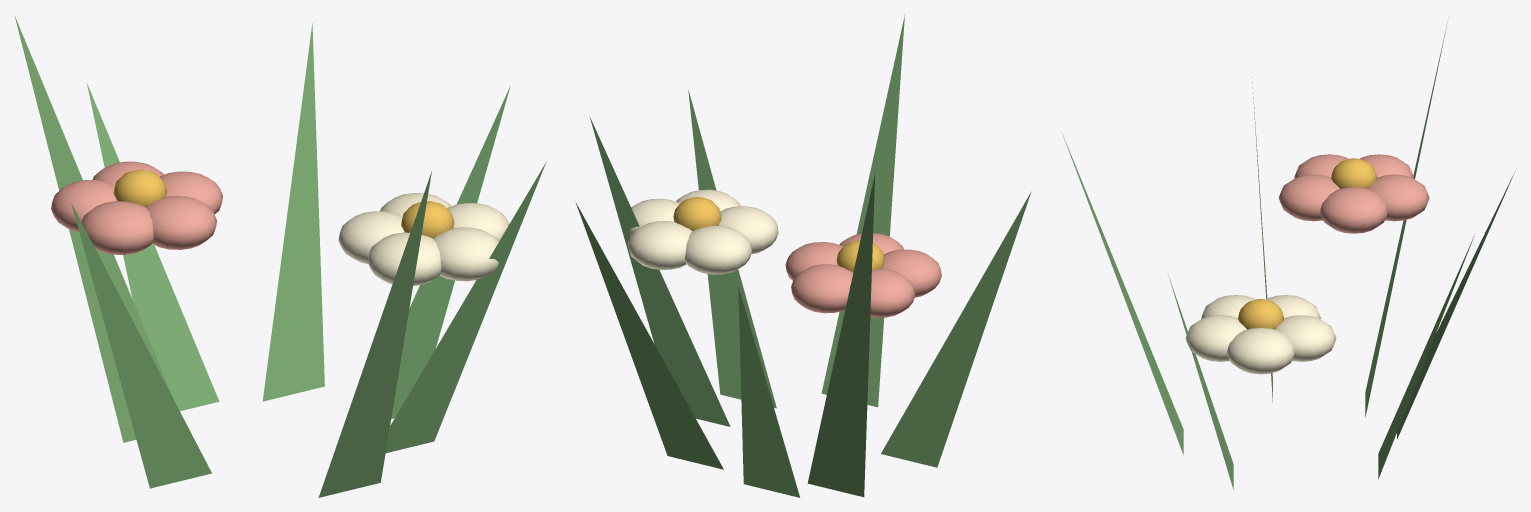
The model's file is grass.glb.
The picture shows the model from 3 angles, left to right: view 1: azimuth 30°, elevation 25°; view 2: azimuth 150°, elevation 25°; view 3: azimuth 270°, elevation 25°; orthographic projection. The views are drawn at different scales.
Visible parts, largest first — view 1: Blade.003, Blade.004, Blade.002, Blade.005, Blade.006, Blade.001, Blade, Petal.003, Petal.004, Petal.009, Petal.008, Petal.007 (+7 smaller); view 2: Blade.001, Blade.004, Blade.003, Blade, Blade.006, Blade.002, Blade.005, Petal.007, Petal.006, Petal.001, Petal.002, Petal.003 (+7 smaller); view 3: Petal, Petal.005, Petal.006, Petal.001, Petal.004, Petal.009, Blade.002, Blade.003, Blade.006, Blade.001, FlowerCenter, FlowerCenter.001 (+5 smaller).
Boxes of the visible parts, x1,y1,x2,y2 form: Blade.003: (262,23,324,401); Blade.004: (71,203,211,488); Blade.002: (318,171,431,497); Blade.005: (385,162,546,453); Blade.006: (86,82,219,411); Blade.001: (14,15,174,442); Blade: (391,86,510,418); Petal.003: (81,201,153,254); Petal.004: (146,196,216,249); Petal.009: (433,227,498,281); Petal.008: (367,232,441,285); Petal.007: (338,211,404,263); Blade.001: (807,173,875,497); Blade.004: (881,191,1031,467); Blade.003: (575,202,723,469); Blade: (589,116,730,426); Blade.006: (738,286,800,497); Blade.002: (821,15,904,407); Blade.005: (688,90,776,408); Petal.007: (685,225,752,274); Petal.006: (627,221,692,269); Petal.001: (791,264,853,313); Petal.002: (849,269,915,317); Petal.003: (882,249,941,297); Petal: (1320,187,1387,233); Petal.005: (1227,328,1294,374); Petal.006: (1275,315,1336,361); Petal.001: (1368,174,1429,221); Petal.004: (1278,174,1339,221); Petal.009: (1185,315,1246,361); Blade.002: (1062,133,1183,454); Blade.003: (1378,233,1475,478); Blade.006: (1397,172,1514,439); Blade.001: (1365,22,1447,417); FlowerCenter: (1331,158,1377,188); FlowerCenter.001: (1237,299,1284,329).
Bounding box in the file's own units: 0.5954 × 0.5011 × 0.5885.
